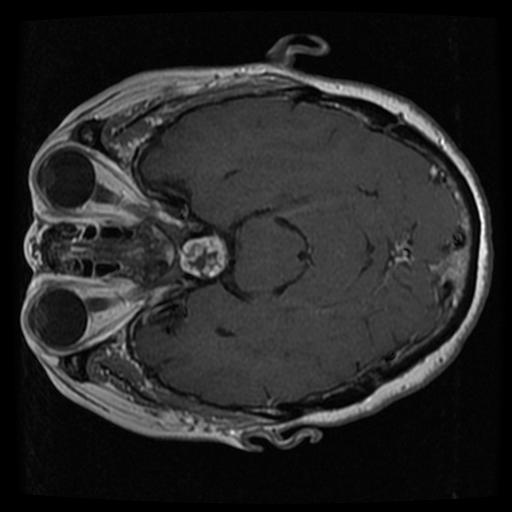pituitary tumour: (178, 233, 229, 278)
